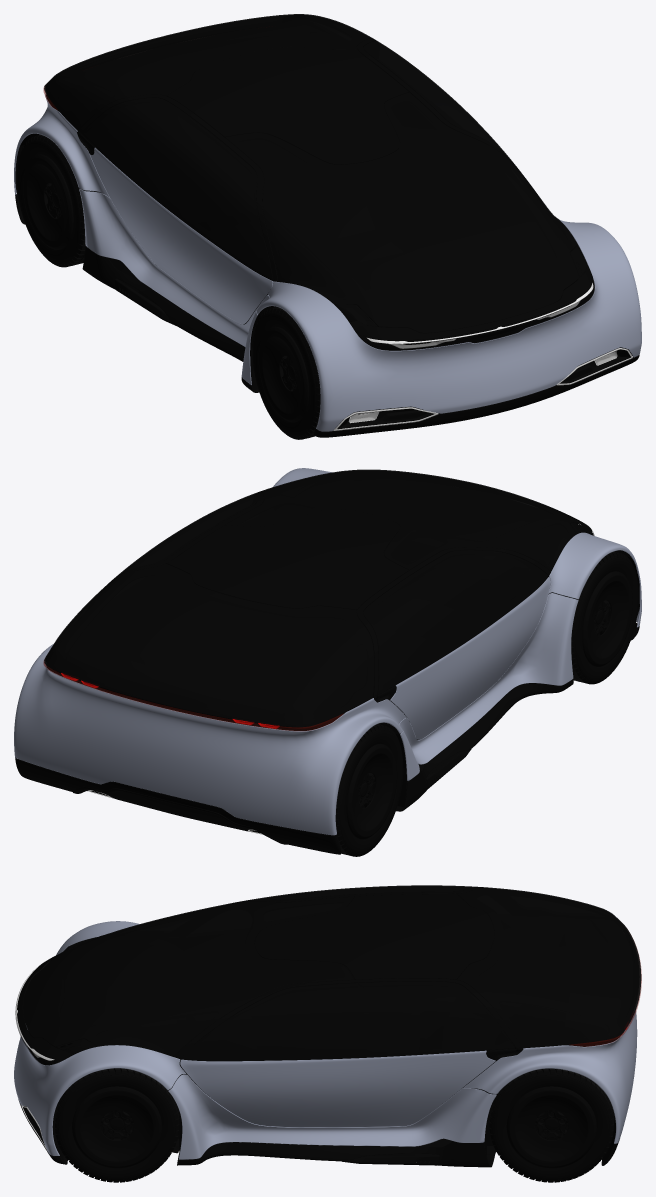
3 renders of one model, top to bottom at view 1: azimuth 30°, elevation 25°; view 2: azimuth 150°, elevation 25°; view 3: azimuth 270°, elevation 25°, orthographic. The views are drawn at different scales.
Parts seen in each view (by area): view 1: FC_051.001, FC_051.012, FC_051.020, FC_051.027, FC_051.028, FC_051.007, FC_051, tire_001_R17.004, tire_001_R17.003, Plane.003, Plane.002, FC_051.009 (+10 smaller); view 2: FC_051.028, FC_051.013, FC_051.001, FC_051.027, FC_051.020, FC_051.007, FC_051, FC_051.010, FC_051.012, tire_001_R17.003, Plane.003, Plane.002 (+7 smaller); view 3: FC_051.001, FC_051.028, FC_051.020, FC_051.007, FC_051.027, FC_051, FC_051.012, FC_051.013, tire_001_R17.002, tire_001_R17.001, Plane.001, Plane (+8 smaller).
Boxes of the visible parts, x1=… form: FC_051.001: x1=225, y1=92, x2=579, y2=333; FC_051.012: x1=257, y1=219, x2=641, y2=431; FC_051.020: x1=81, y1=40, x2=516, y2=280; FC_051.027: x1=167, y1=47, x2=408, y2=164; FC_051.028: x1=44, y1=14, x2=371, y2=130; FC_051.007: x1=90, y1=147, x2=273, y2=324; FC_051: x1=79, y1=188, x2=269, y2=384; tire_001_R17.004: x1=17, y1=134, x2=86, y2=267; tire_001_R17.003: x1=252, y1=307, x2=320, y2=439; Plane.003: x1=23, y1=154, x2=73, y2=249; Plane.002: x1=258, y1=326, x2=308, y2=422; FC_051.009: x1=82, y1=246, x2=259, y2=392; FC_051.028: x1=44, y1=563, x2=374, y2=727; FC_051.013: x1=14, y1=644, x2=405, y2=835; FC_051.001: x1=225, y1=469, x2=578, y2=571; FC_051.027: x1=166, y1=509, x2=408, y2=609; FC_051.020: x1=116, y1=492, x2=548, y2=694; FC_051.007: x1=390, y1=577, x2=550, y2=739; FC_051: x1=399, y1=593, x2=578, y2=780; FC_051.010: x1=15, y1=757, x2=341, y2=854; FC_051.012: x1=273, y1=468, x2=641, y2=627; tire_001_R17.003: x1=571, y1=551, x2=638, y2=684; Plane.003: x1=346, y1=744, x2=397, y2=839; Plane.002: x1=582, y1=571, x2=632, y2=666; FC_051.001: x1=23, y1=896, x2=354, y2=1056; FC_051.028: x1=457, y1=887, x2=641, y2=1047; FC_051.020: x1=181, y1=885, x2=515, y2=1060; FC_051.007: x1=180, y1=1050, x2=495, y2=1127; FC_051.027: x1=254, y1=893, x2=493, y2=979; FC_051: x1=168, y1=1074, x2=496, y2=1159; FC_051.012: x1=14, y1=921, x2=186, y2=1155; FC_051.013: x1=463, y1=1010, x2=637, y2=1143; tire_001_R17.002: x1=489, y1=1068, x2=613, y2=1182; tire_001_R17.001: x1=55, y1=1068, x2=179, y2=1182; Plane.001: x1=506, y1=1086, x2=596, y2=1168; Plane: x1=72, y1=1086, x2=162, y2=1168.
Size of what is drawn, in the model's own units: 2.15 by 1.21 by 3.86.
